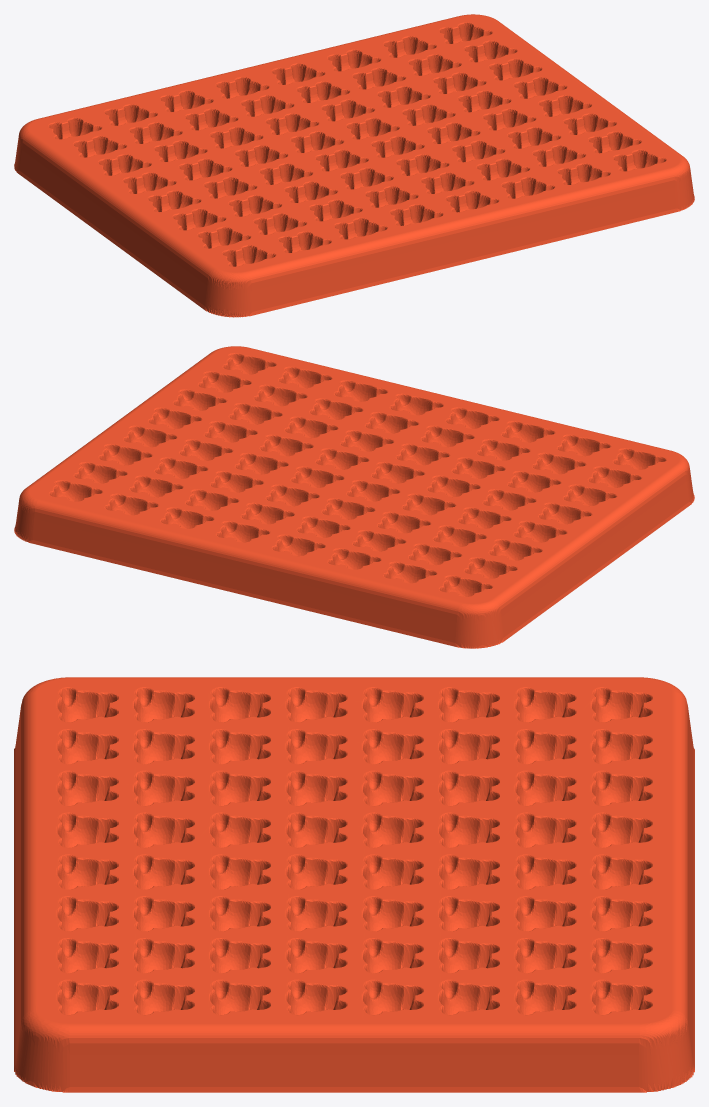
The model's file is mold.glb.
3 views of the same model, one above another, from view 1: azimuth 30°, elevation 25°; view 2: azimuth 150°, elevation 25°; view 3: azimuth 270°, elevation 25° (orthographic). The views are drawn at different scales.
Parts seen in each view (by area): view 1: geometry_0; view 2: geometry_0; view 3: geometry_0.
Part boxes in pixels (x1,y1,x2,y2): geometry_0: [14, 14, 694, 317]; geometry_0: [14, 346, 694, 648]; geometry_0: [14, 677, 694, 1092].
Bounding box in the file's own units: 0.1373 × 0.0104 × 0.1085.
